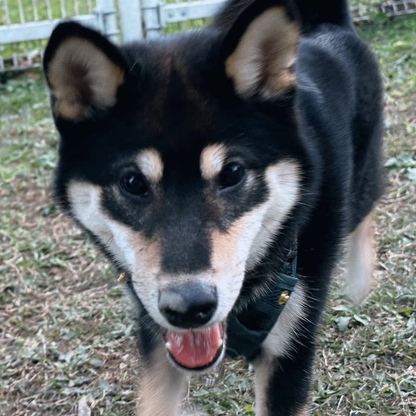shiba: (34, 1, 394, 416)
